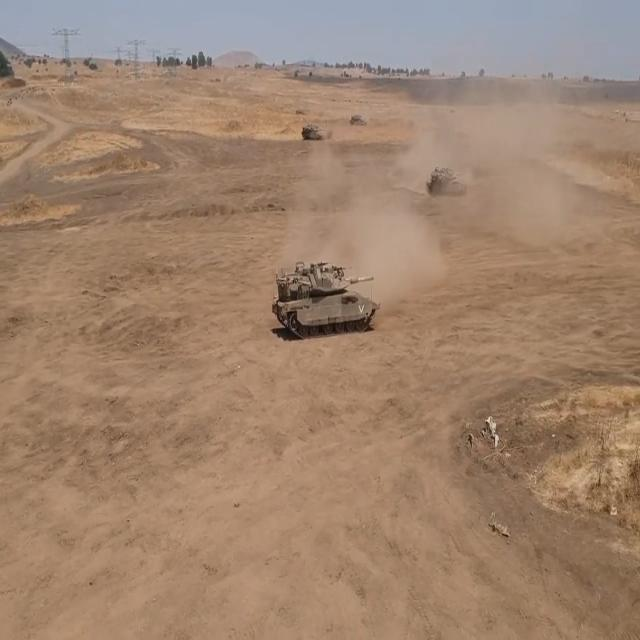tank: (274, 259, 386, 340), (423, 153, 469, 201), (298, 121, 328, 145), (347, 118, 368, 132)
